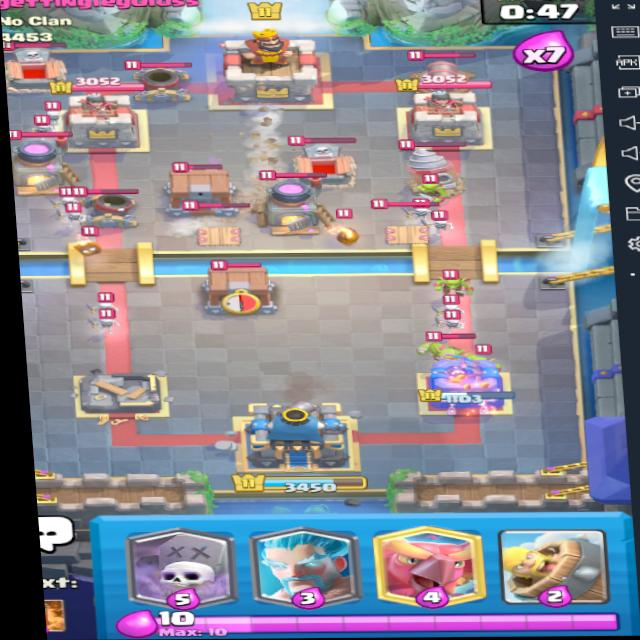brawler: (419, 331, 488, 373)
cannon: (401, 48, 480, 103)
fire-spirit: (73, 232, 114, 257), (332, 222, 367, 251)
furnace: (245, 168, 346, 233), (10, 129, 76, 188)
goblin: (436, 273, 478, 298)
goblin-cage: (146, 160, 248, 219), (194, 253, 280, 314)
goblin-drill: (395, 138, 466, 196)
mortar: (64, 179, 144, 233), (122, 56, 198, 103)
skeleton: (410, 174, 454, 199), (441, 296, 473, 320), (27, 115, 61, 137), (404, 196, 438, 218), (439, 310, 469, 334), (47, 196, 84, 215), (89, 307, 118, 330), (87, 298, 119, 315), (427, 211, 452, 230), (59, 210, 87, 226)
tesla-closed: (181, 198, 259, 247), (370, 197, 445, 247)
tombstone: (3, 40, 83, 93), (285, 132, 364, 183)
